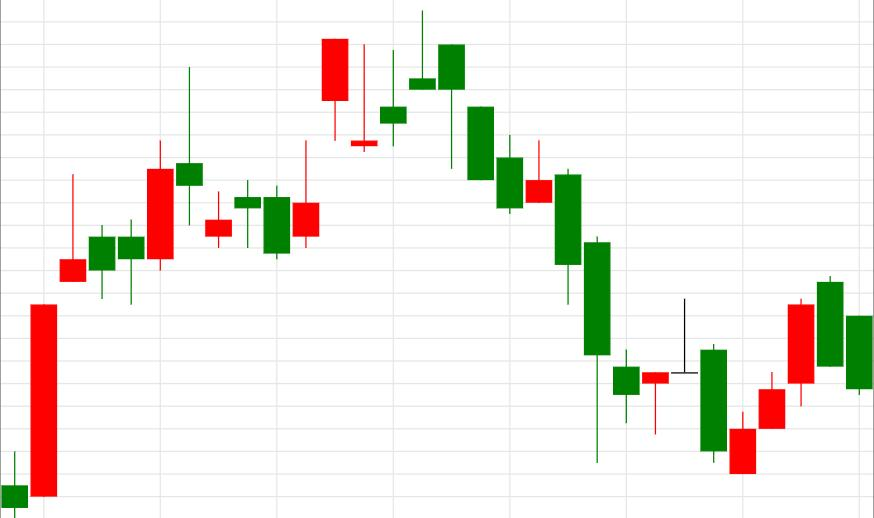three_white_soldiers_rise: (438, 45, 815, 473)
